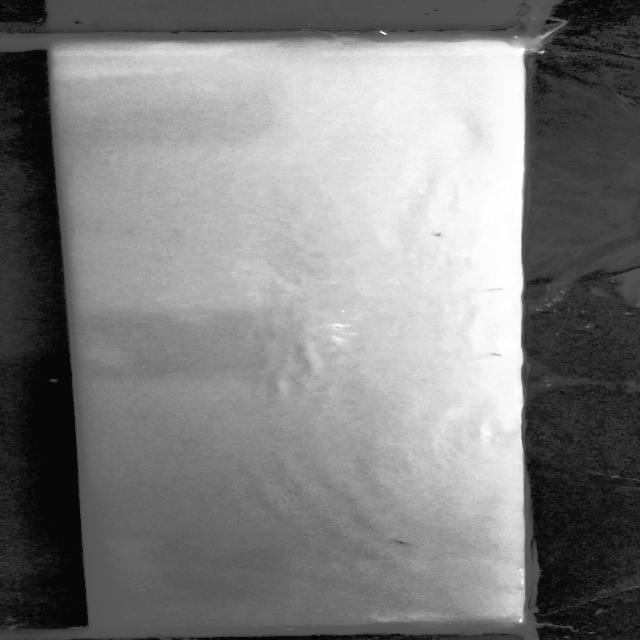shrimp: (386, 534, 424, 549), (426, 226, 446, 241)
